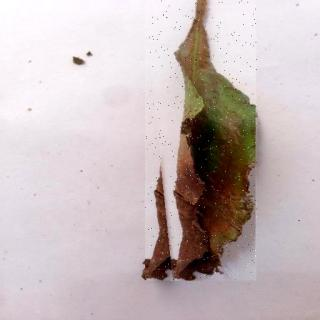Algal Leaf: (147, 1, 259, 282)
